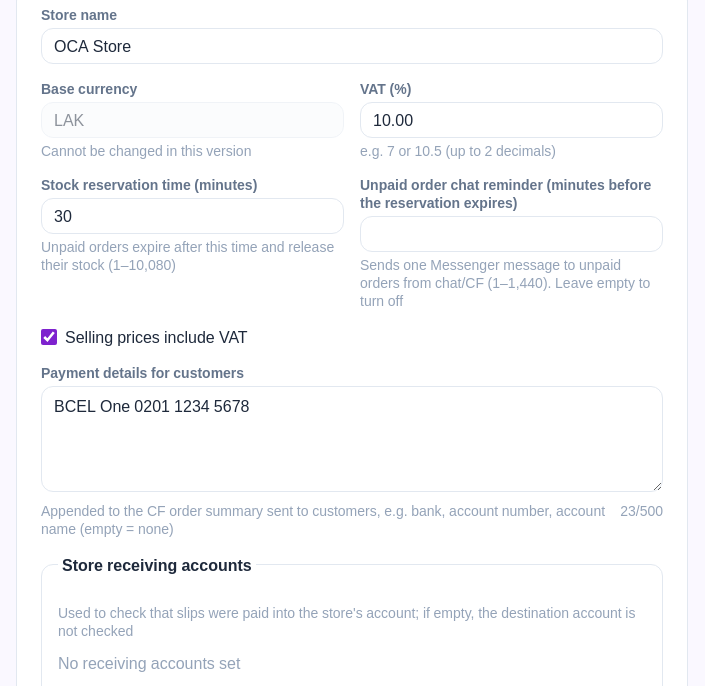
it: StoreSettingsForm › VAT ເກີນ 100 ຫຼື ນາທີ 0: ສະແດງ error ແລະ ບໍ່ສົ່ງ
Expected: the field showing "OCA Store" is shown, [41,28,663,64]
Step 1. Replace the text in the field labelled "VAT (%)" with "101" → coordinates (512, 120), box [360,102,663,138]
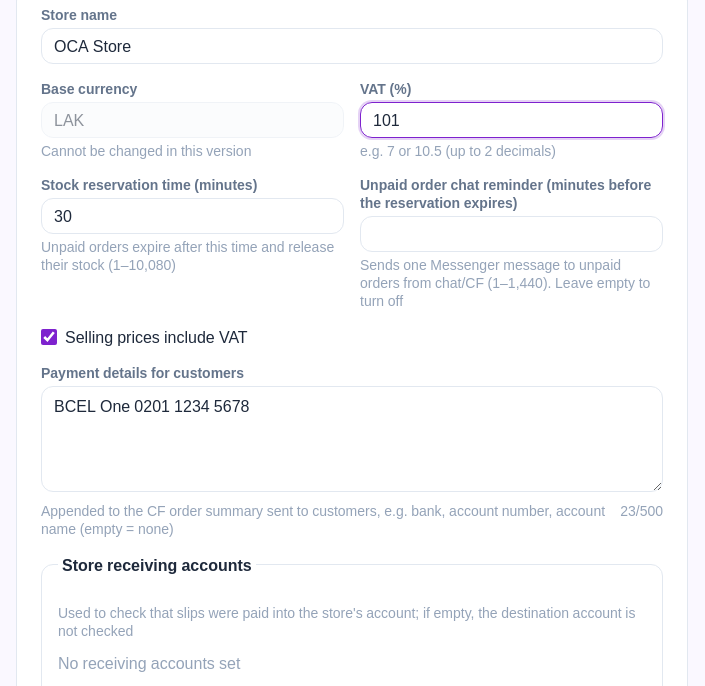
Step 2. Replace the text in the number field labelled "Stock reservation time (minutes)" with "0" → coordinates (192, 216), box [41,198,344,234]
(page scrolled)
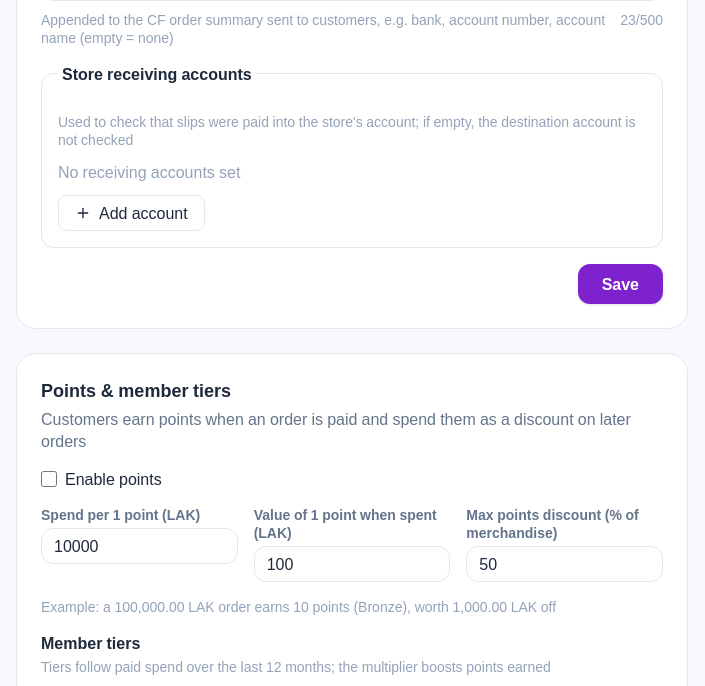
Step 3. Click the button "Save" → coordinates (620, 284), box [578,264,663,304]
(page scrolled)
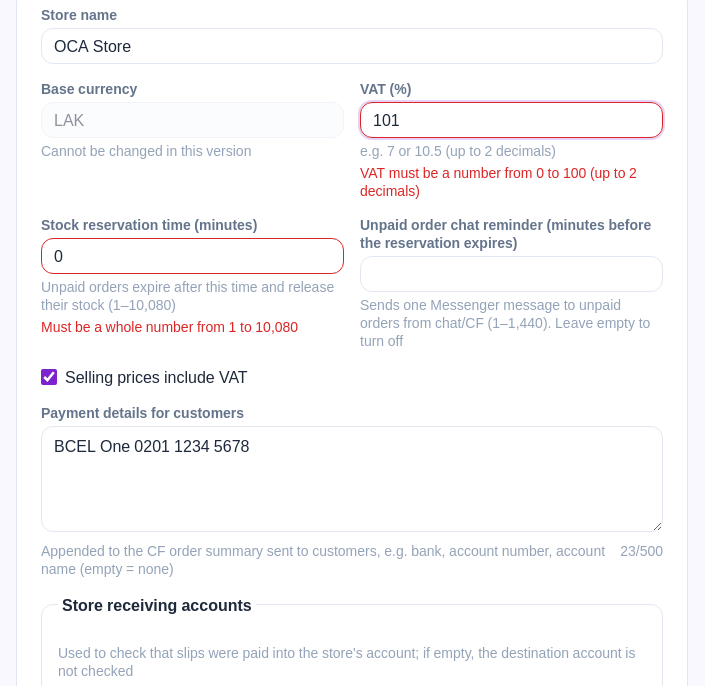
Expected: the text "VAT must be a number from 0 to 100 (up to 2 decimals)" is shown, [360,164,663,200]
Expected: the text "Must be a whole number from 1 to 10,080" is shown, [41,314,298,338]
